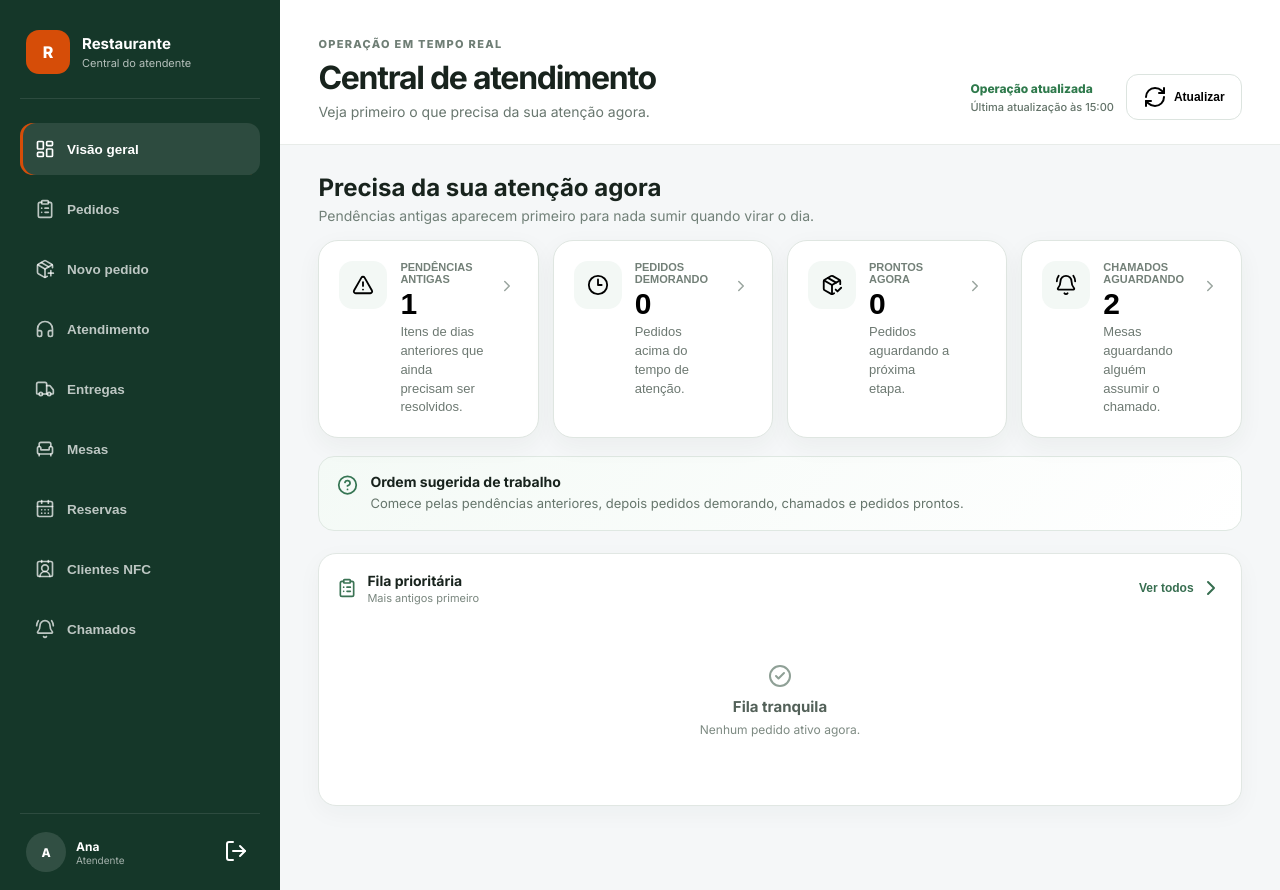
Test case: AttendantOperationCenterV2 priority navigation › mostra todas as categorias antigas mesmo sem pedidos antigos
Expected: the text "1" is shown, top-left (400, 287), bottom-right (417, 320)
Click the button that starts with "Pendências antigas" at (429, 339), box top-left (318, 240), bottom-right (539, 438)
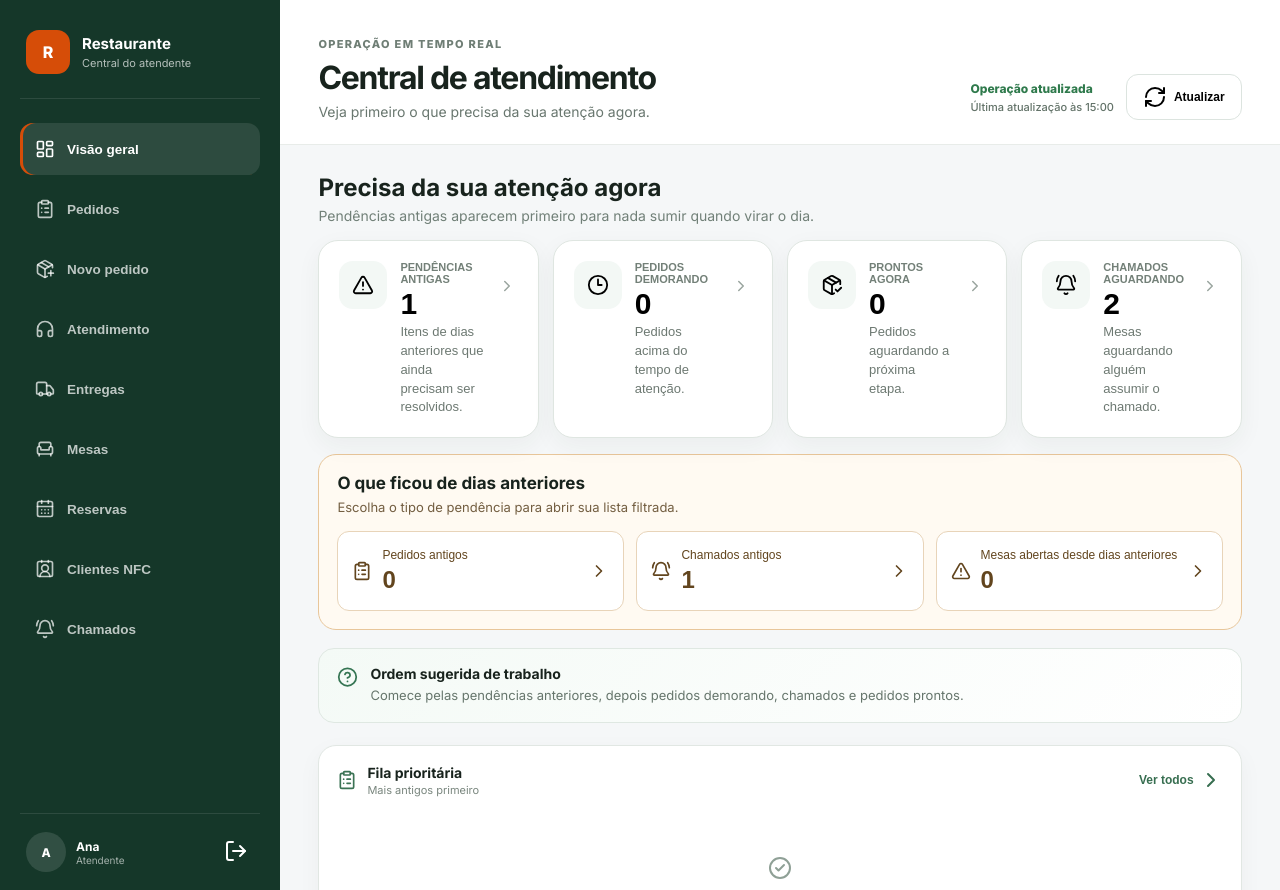
Expected: the button "Pedidos antigos 0" is shown, top-left (337, 531), bottom-right (624, 611)
Expected: the button "Mesas abertas desde dias anteriores 0" is shown, top-left (936, 531), bottom-right (1223, 611)
Expected: the button "Chamados antigos 1" is shown
Click the button "Chamados antigos 1" at (731, 555), box top-left (636, 531), bottom-right (924, 611)
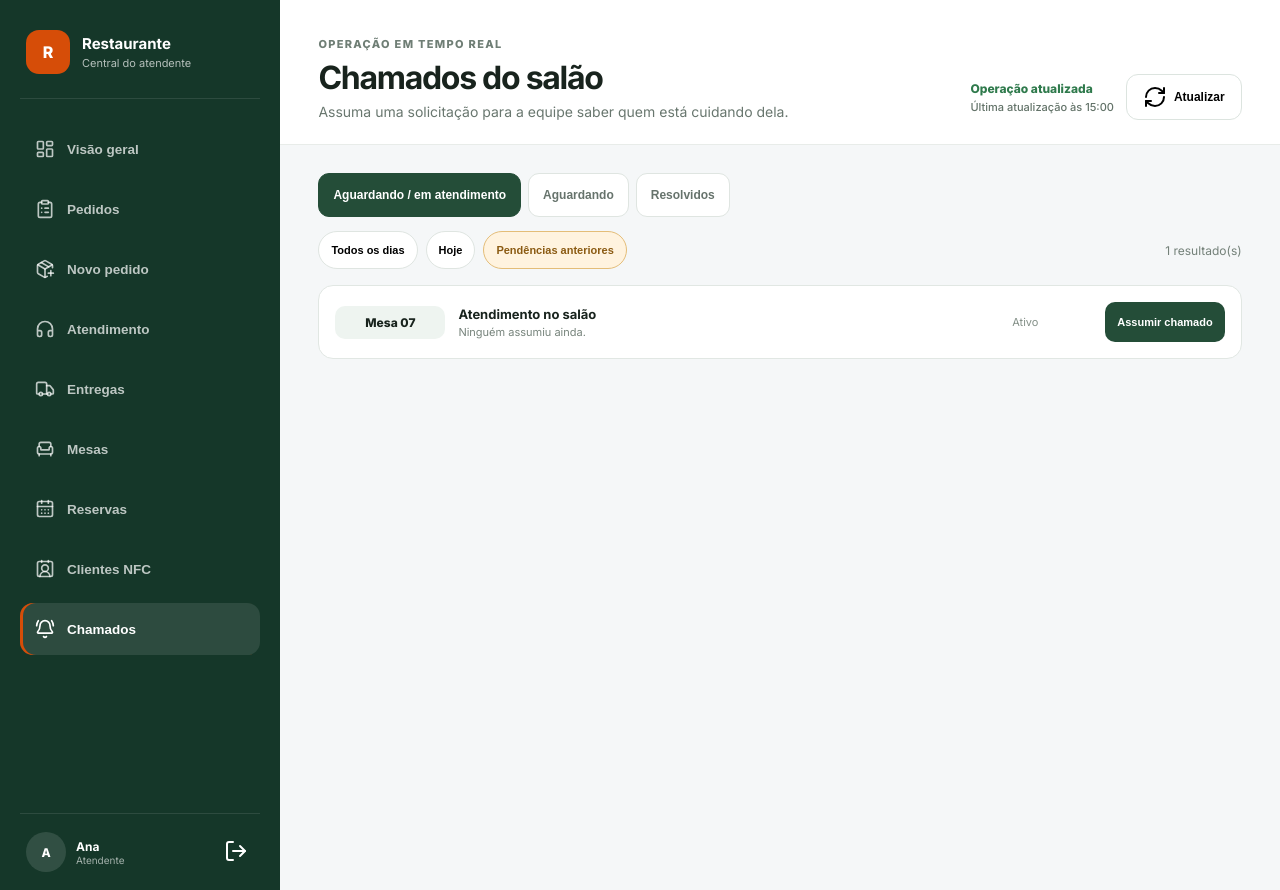
Expected: the element that starts with "Mesa 07" is shown, top-left (365, 314), bottom-right (416, 330)
